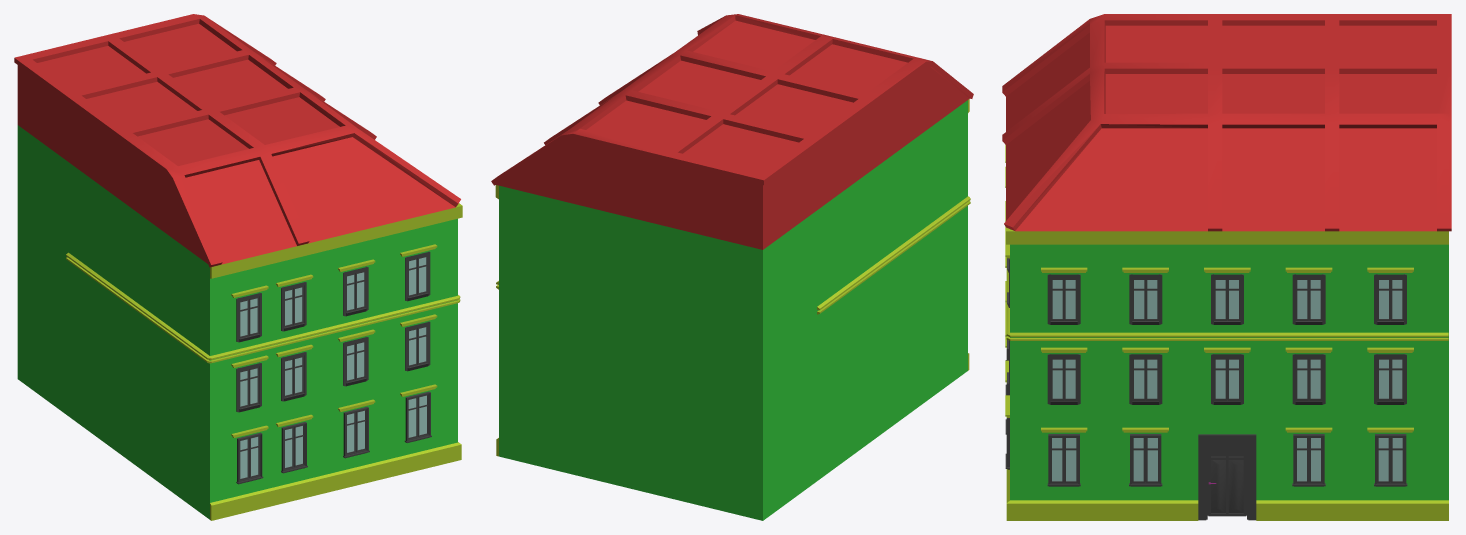
Rendered from Tenement House 1.fbx.
3 renders of one model, left to right at view 1: azimuth 30°, elevation 25°; view 2: azimuth 150°, elevation 25°; view 3: azimuth 270°, elevation 25°, orthographic. The views are drawn at different scales.
Parts seen in each view (by area): view 1: Tenement_House, Roof, Dark_Walls, Windows_Door, Glass; view 2: Tenement_House, Roof, Dark_Walls; view 3: Roof, Tenement_House, Dark_Walls, Windows_Door, Glass.
Part boxes in pixels (<box>): Tenement_House: <box>17,125,457,519</box>; Roof: <box>14,14,460,267</box>; Dark_Walls: <box>66,203,462,520</box>; Windows_Door: <box>236,251,431,484</box>; Glass: <box>240,257,426,478</box>; Tenement_House: <box>499,100,967,520</box>; Roof: <box>491,14,973,249</box>; Dark_Walls: <box>495,99,970,456</box>; Roof: <box>1002,14,1451,231</box>; Tenement_House: <box>1010,229,1448,500</box>; Dark_Walls: <box>1005,145,1448,520</box>; Windows_Door: <box>1005,258,1407,520</box>; Glass: <box>1052,280,1402,481</box>.
Size of the model in its own units: 1345 by 1610 by 1790.
